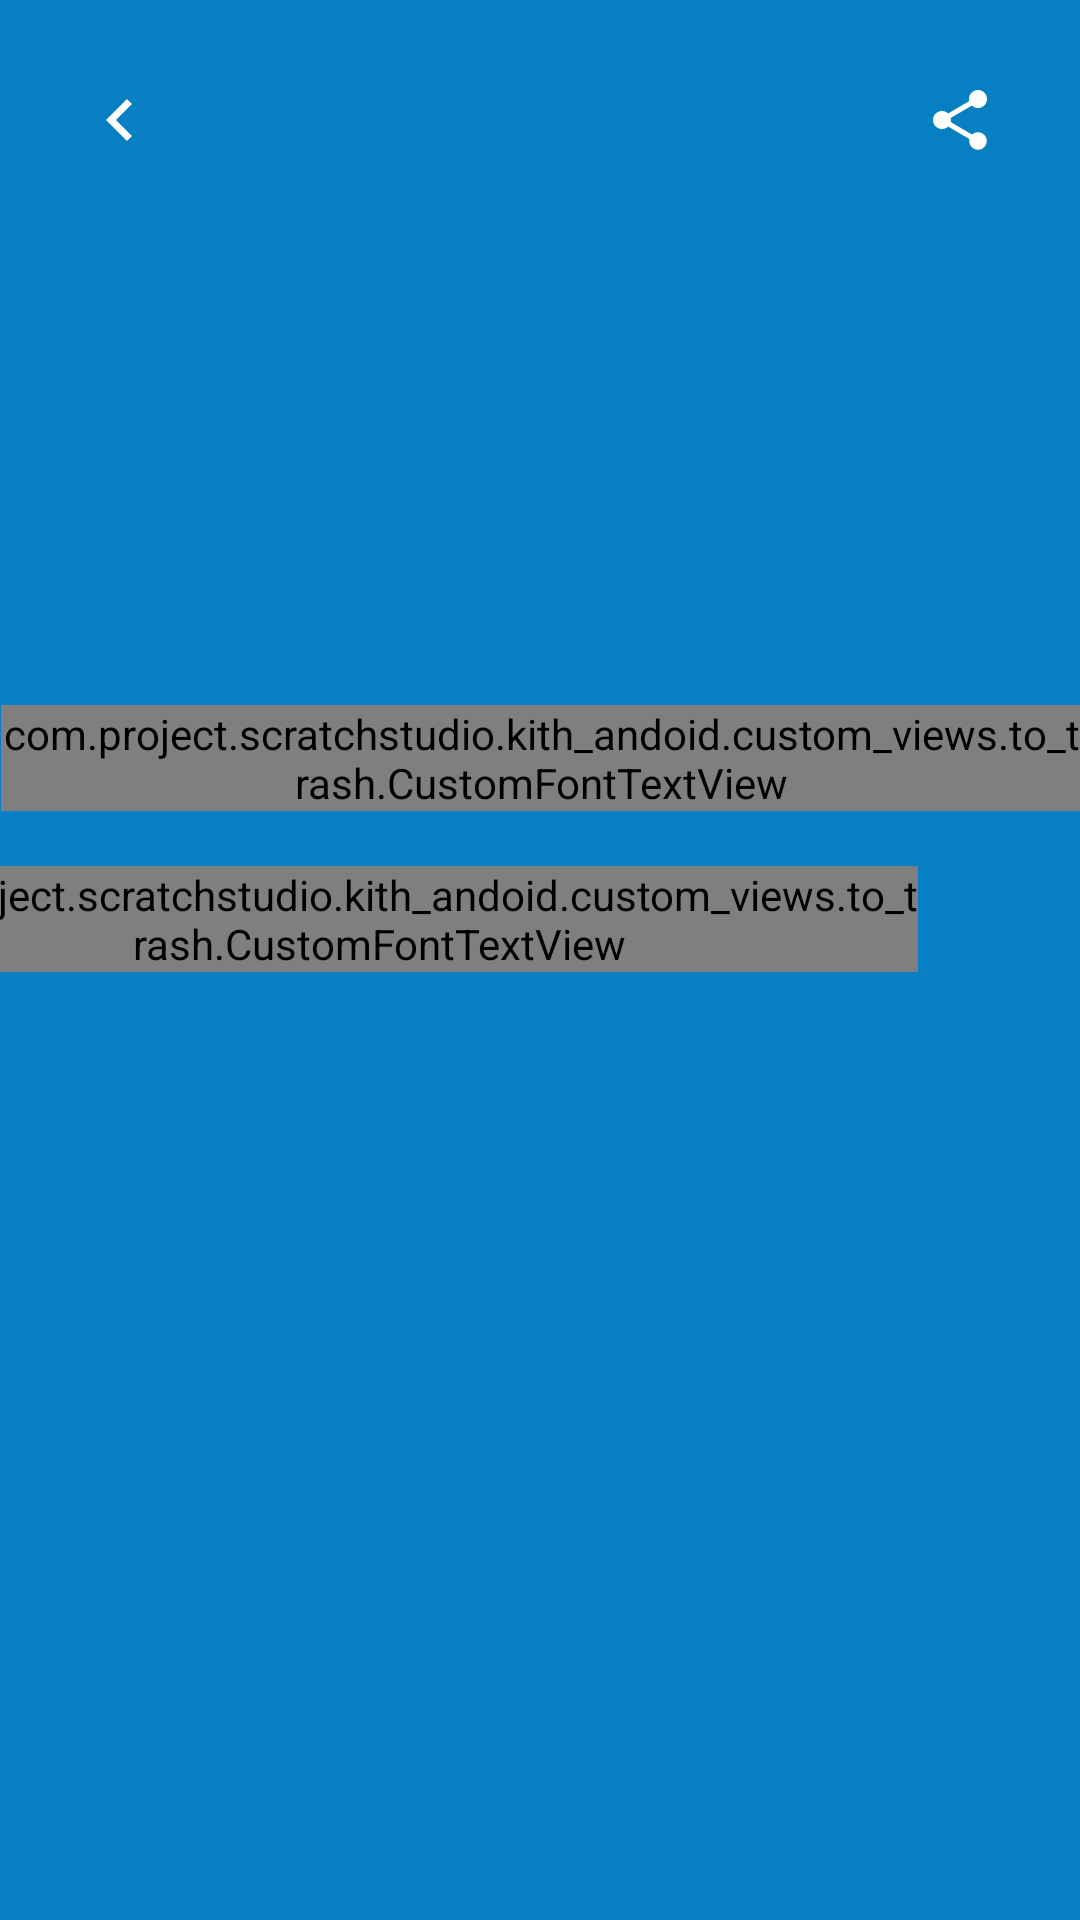

Screen size 1080 x 1920. Icon name, then its box in pixels as (x1, y1, x2, y2):
left: (106, 99, 132, 141)
share: (933, 90, 987, 150)
